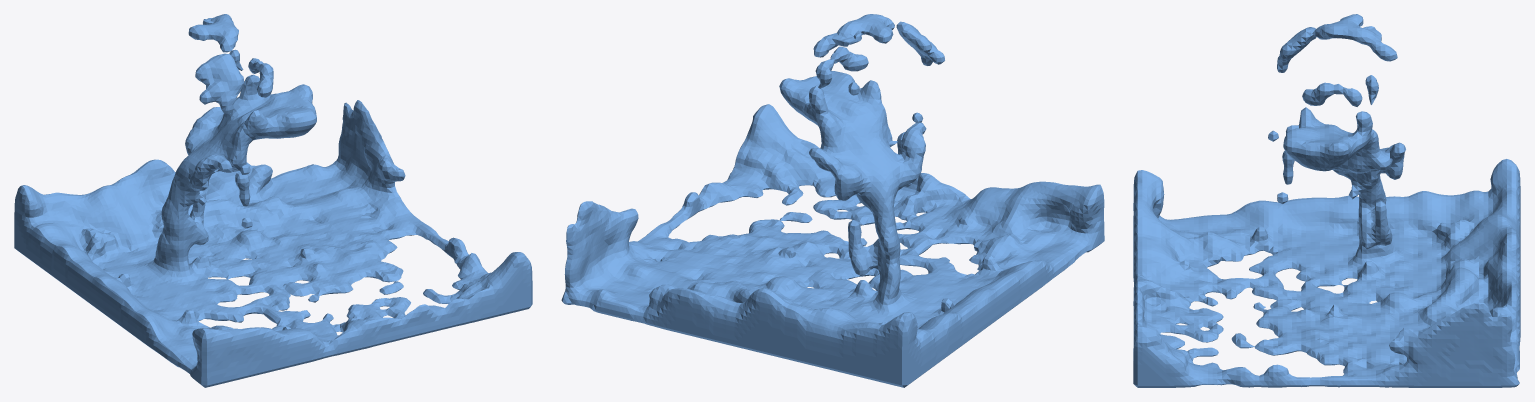
File: water_0080.glb
The picture shows the model from 3 angles, left to right: view 1: azimuth 30°, elevation 25°; view 2: azimuth 150°, elevation 25°; view 3: azimuth 270°, elevation 25°; orthographic projection. The views are drawn at different scales.
Parts seen in each view (by area): view 1: Water_0080; view 2: Water_0080; view 3: Water_0080.
Part boxes in pixels (x1,y1,x2,y2): Water_0080: [14, 14, 532, 387]; Water_0080: [561, 14, 1104, 387]; Water_0080: [1133, 14, 1520, 387].
Bounding box in the file's own units: 4.83 × 3.63 × 4.83.
